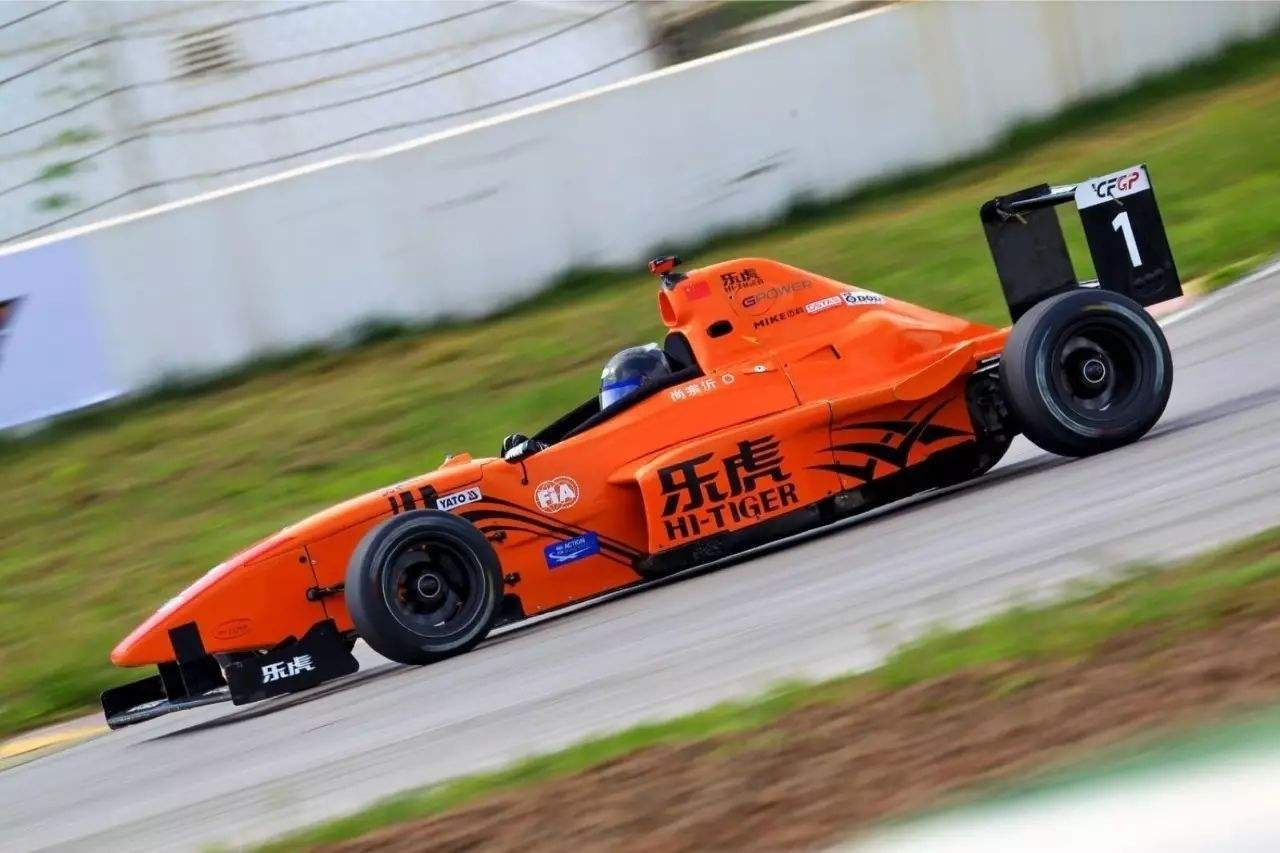racing car: (77, 242, 1189, 712)
